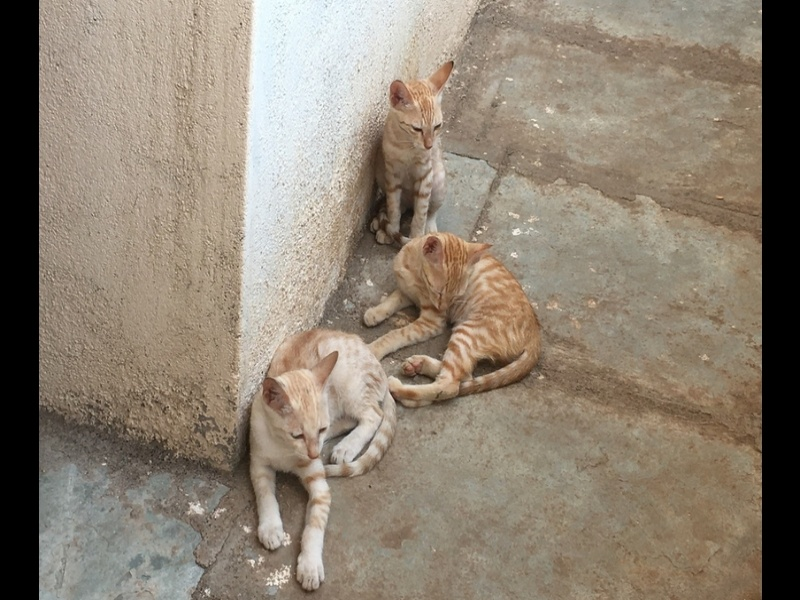cat: (247, 325, 392, 588), (366, 233, 546, 410), (368, 56, 457, 248)
